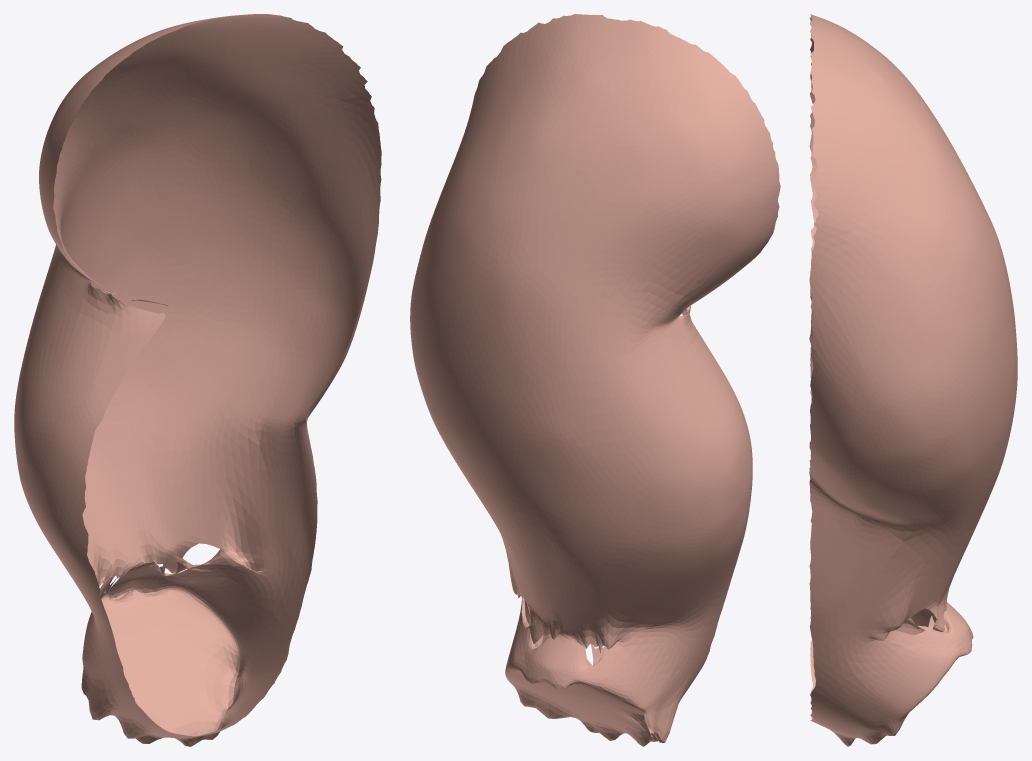
The model's file is retto_interno.glb.
The picture shows the model from 3 angles, left to right: view 1: azimuth 30°, elevation 25°; view 2: azimuth 150°, elevation 25°; view 3: azimuth 270°, elevation 25°; orthographic projection. The views are drawn at different scales.
Parts seen in each view (by area): view 1: rectum; view 2: rectum; view 3: rectum.
Boxes of the visible parts, bbox=[...] form: rectum: bbox=[14, 14, 381, 746]; rectum: bbox=[410, 14, 780, 746]; rectum: bbox=[809, 14, 1017, 746].
Bounding box in the file's own units: 54.7 × 115 × 30.95.
